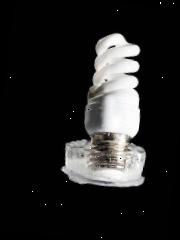lightbulb: (58, 28, 161, 191), (80, 30, 150, 144)
